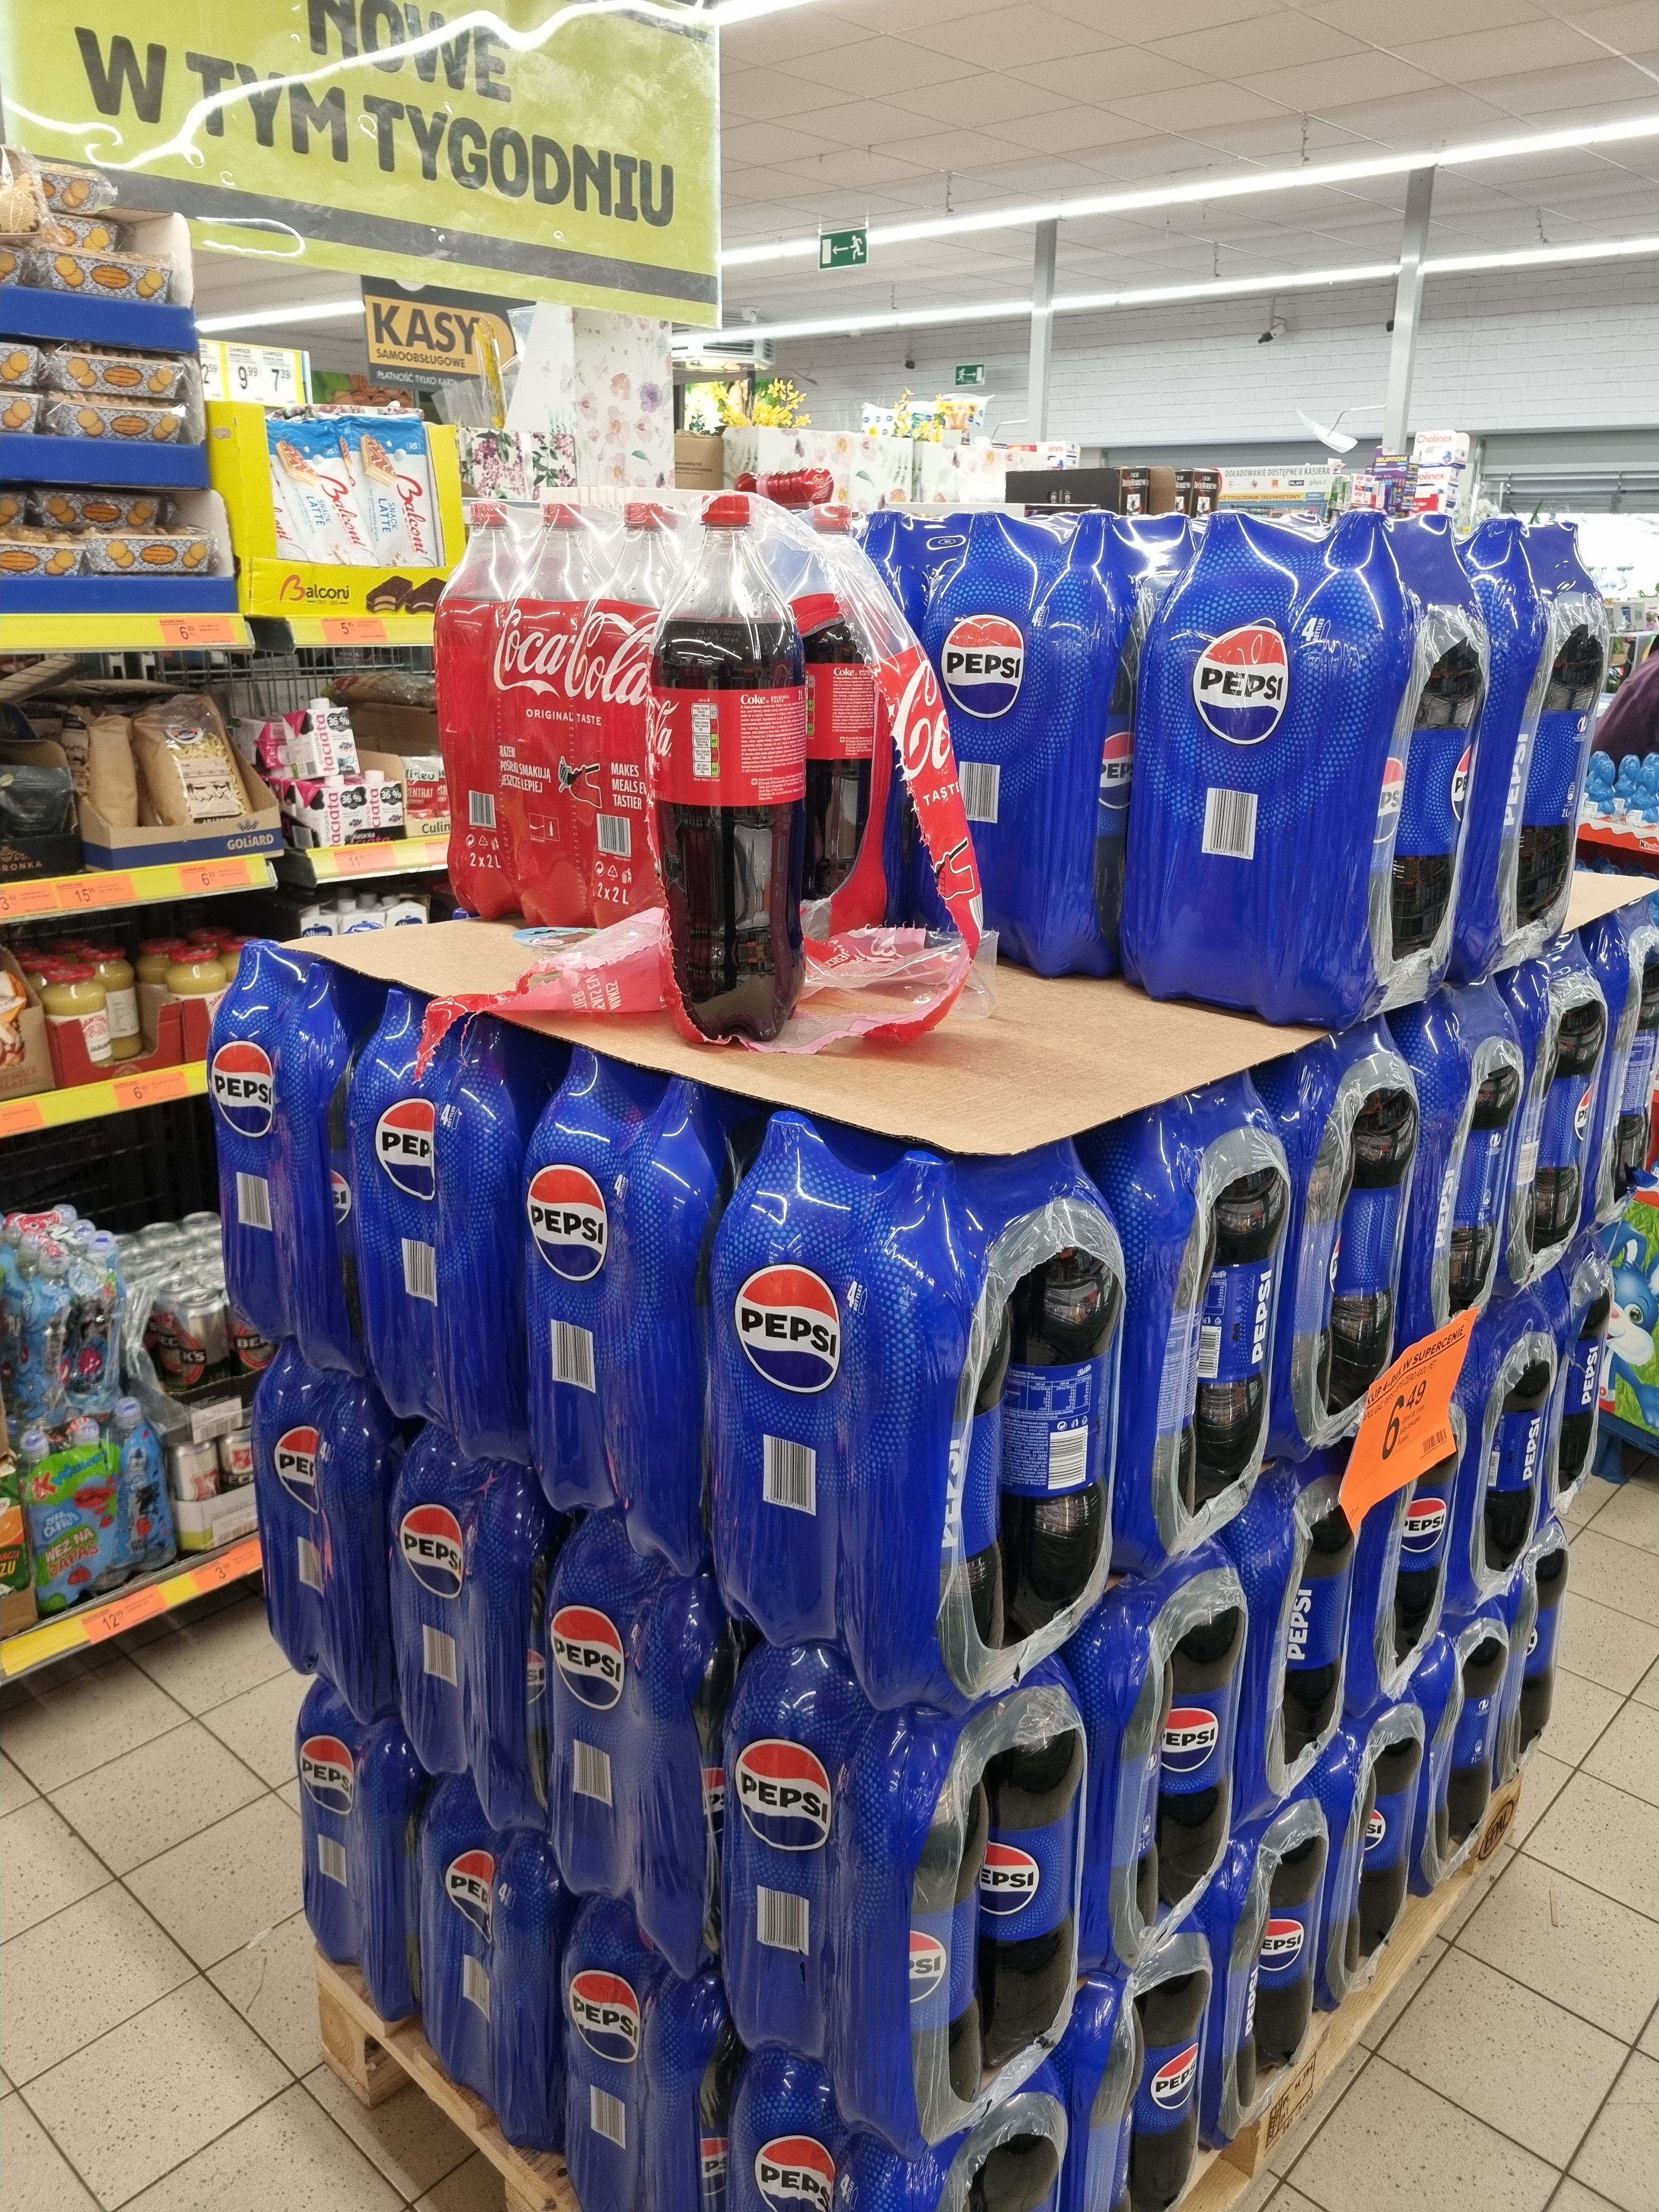Coca Cola: (645, 491, 814, 1049), (770, 503, 904, 954), (504, 495, 613, 948), (599, 495, 699, 958), (432, 503, 526, 953)
